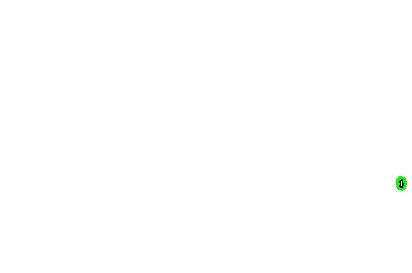line_segment: (397, 177, 406, 190)
